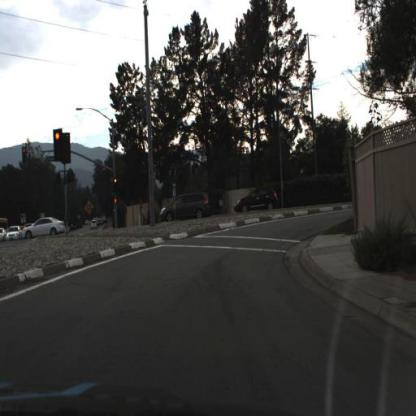car: (158, 192, 210, 223), (233, 186, 279, 216), (22, 214, 64, 243)
trafficLight-Red: (53, 130, 62, 161), (113, 176, 117, 190)
trafficLight-RedLeft: (22, 146, 27, 164)
